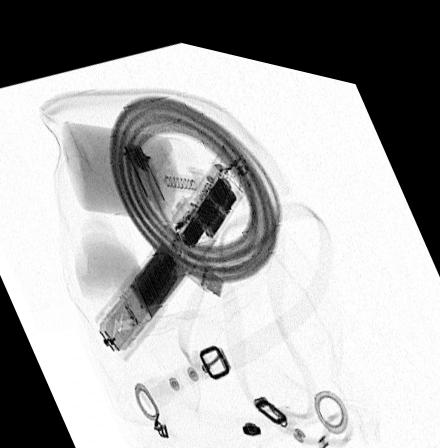Baton: (91, 126, 259, 355)
